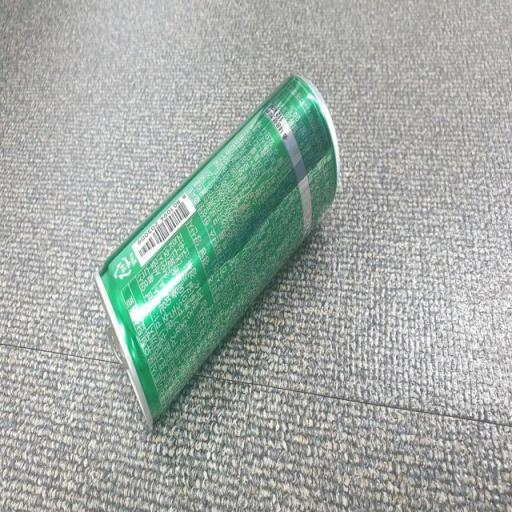metal: (81, 64, 368, 470)
